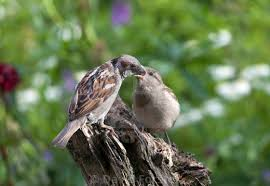hsparrow: (43, 53, 145, 148), (127, 61, 188, 132)
